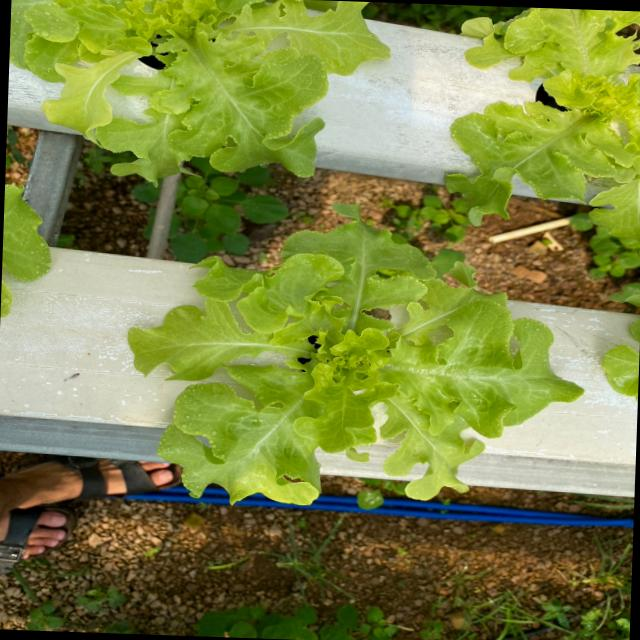Lettuce-Not-Ready-to-Harvest: (106, 196, 594, 534), (4, 0, 379, 203), (419, 3, 640, 229)
